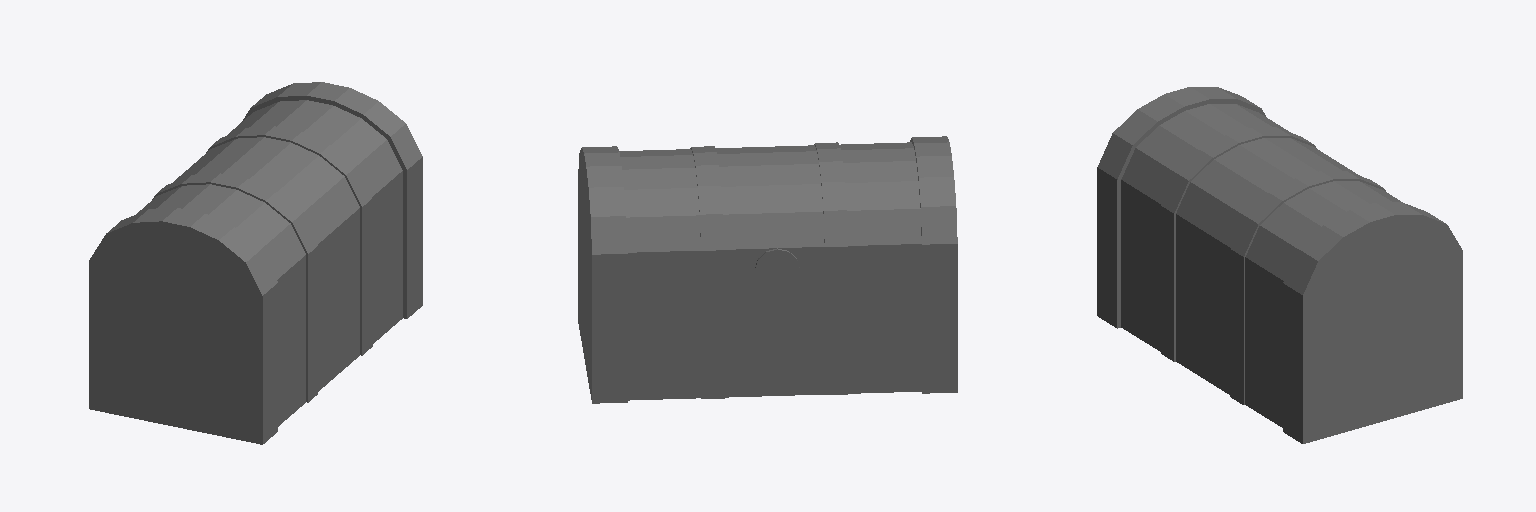
Rendered from chest.obj.
3 renders of one model, left to right at view 1: azimuth 30°, elevation 25°; view 2: azimuth 150°, elevation 25°; view 3: azimuth 270°, elevation 25°, orthographic.
Visible parts, largest first — view 1: treasure_chest; view 2: treasure_chest; view 3: treasure_chest.
Boxes of the visible parts, box(x1,y1,x2,y2) form: treasure_chest: box(89, 82, 422, 444); treasure_chest: box(578, 136, 957, 403); treasure_chest: box(1097, 87, 1462, 443).
Bounding box in the file's own units: 0.797 × 0.4333 × 0.7074.